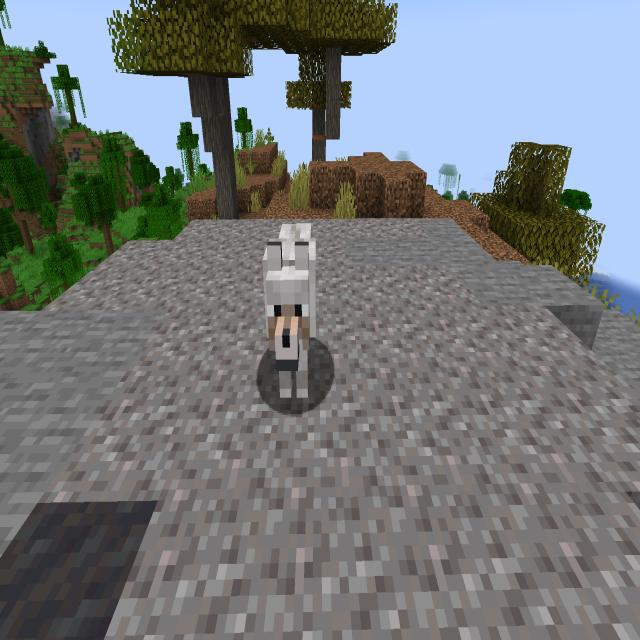Wolf: (259, 205, 333, 409)
